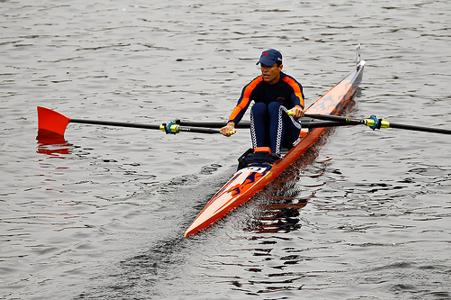person: (218, 49, 308, 156)
